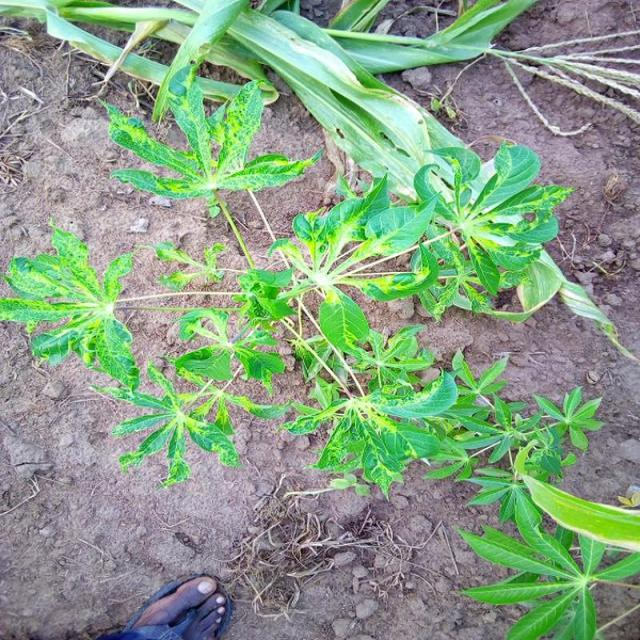cassava leaf: (520, 472, 638, 552)
